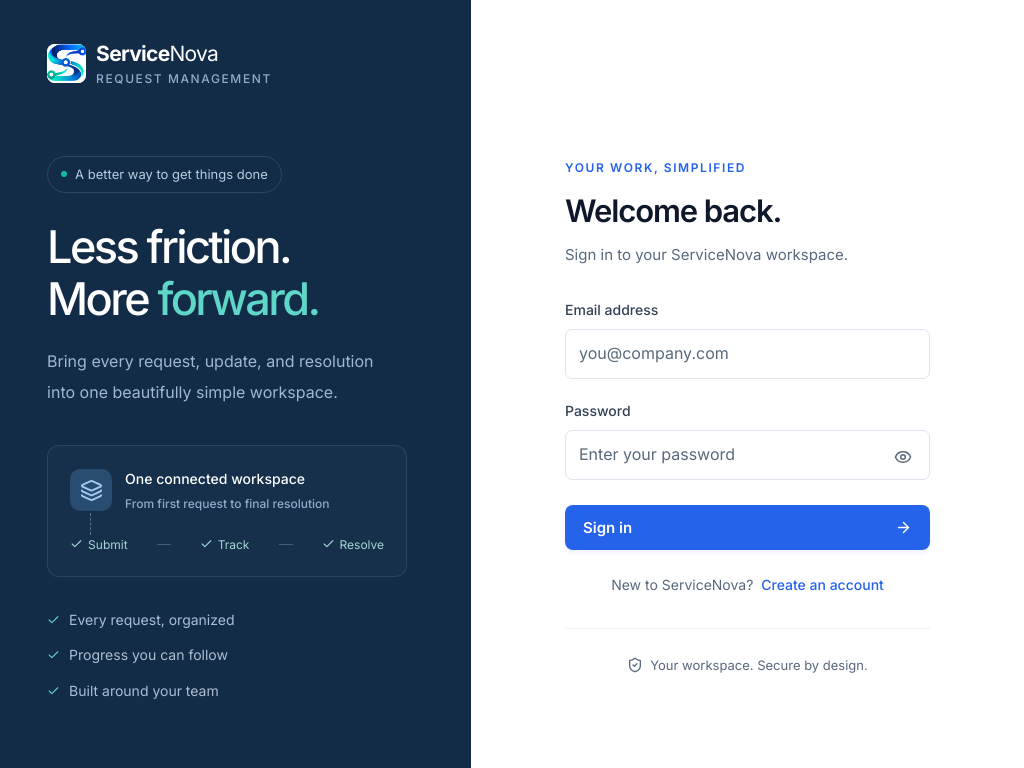
Scenario: authentication forms › requires valid credentials before sign in
Click the button "Sign in" at (608, 527), box [565, 505, 930, 550]
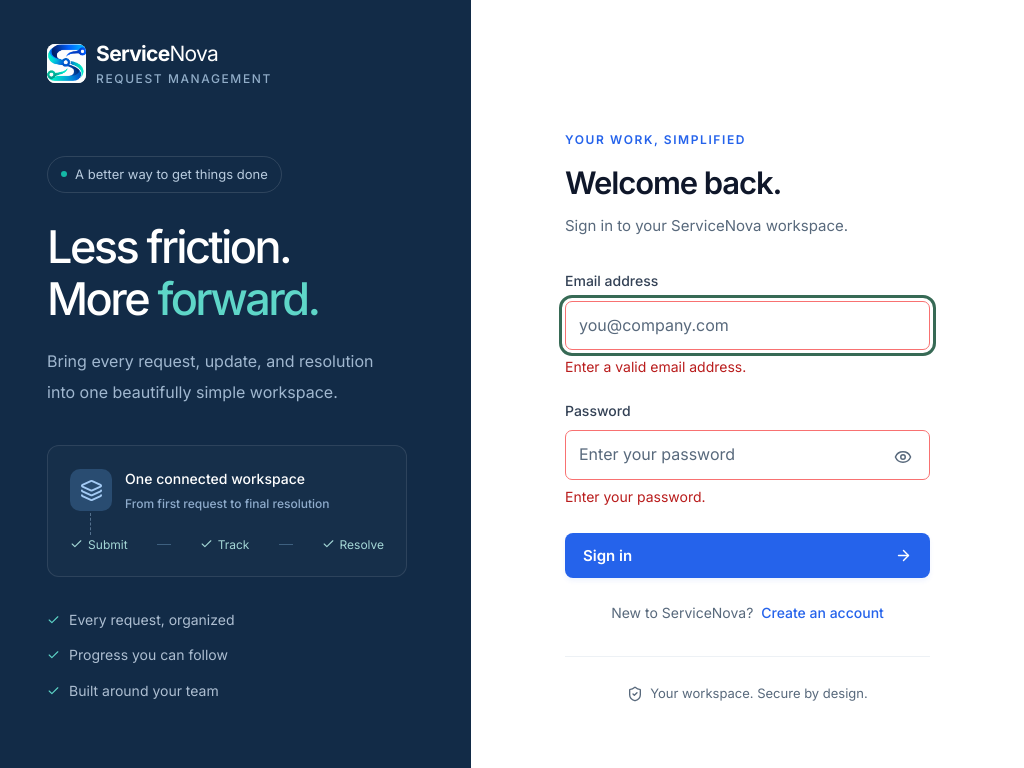
Expected: the text "Enter a valid email address." is shown, [565, 358, 746, 375]
